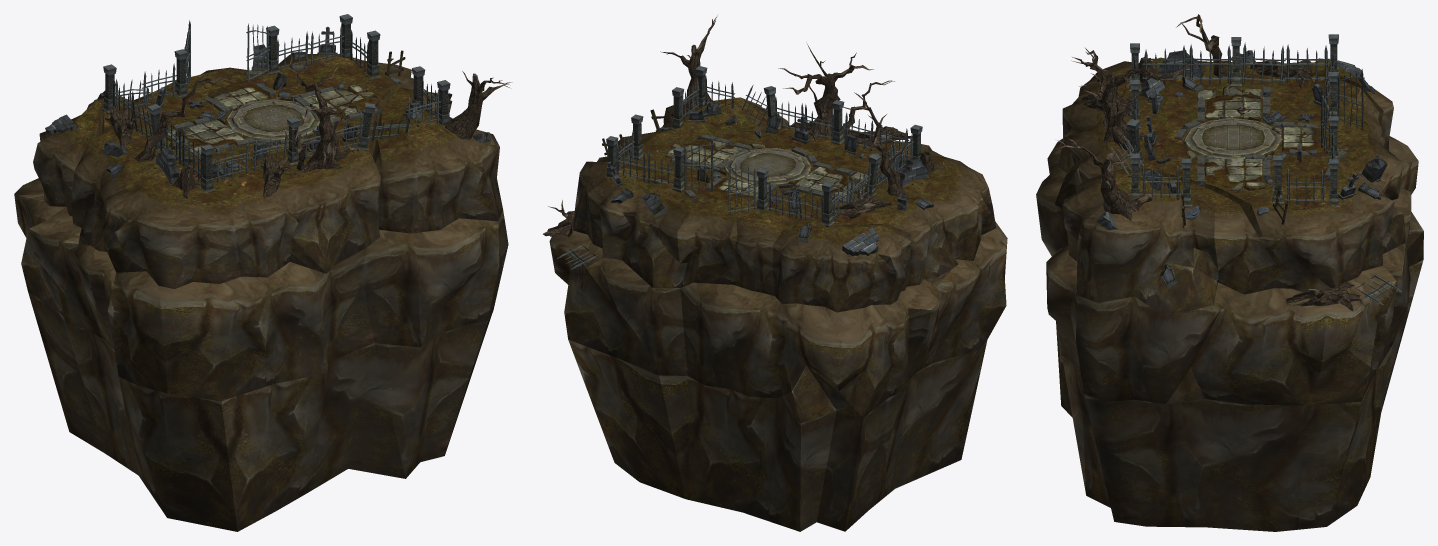
Rendered from cell2LD_RU.fbx.
The picture shows the model from 3 angles, left to right: view 1: azimuth 30°, elevation 25°; view 2: azimuth 150°, elevation 25°; view 3: azimuth 270°, elevation 25°; orthographic projection. The views are drawn at different scales.
Parts seen in each view (by area): view 1: cell2LD_RU; view 2: cell2LD_RU; view 3: cell2LD_RU.
Boxes of the visible parts, x1,y1,x2,y2 form: cell2LD_RU: (14,14,512,531); cell2LD_RU: (543,15,1007,531); cell2LD_RU: (1036,14,1423,531).
Size of the model in its own units: 24.84 by 23.28 by 20.09.
